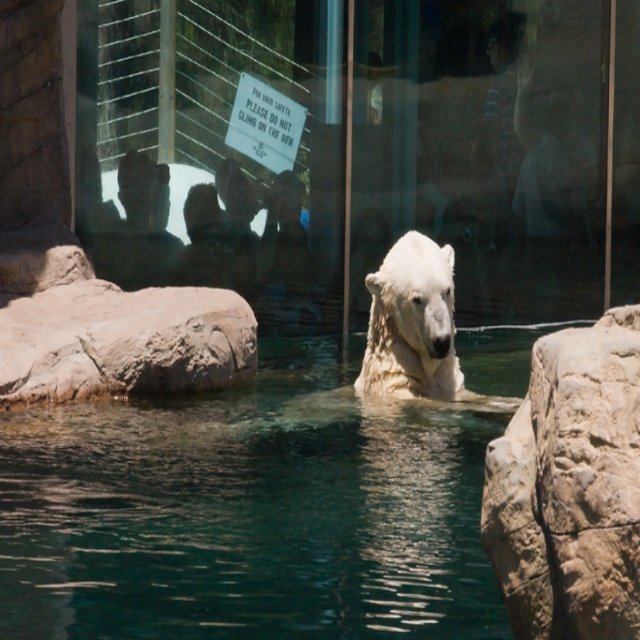Polar bear: (311, 234, 526, 420)
